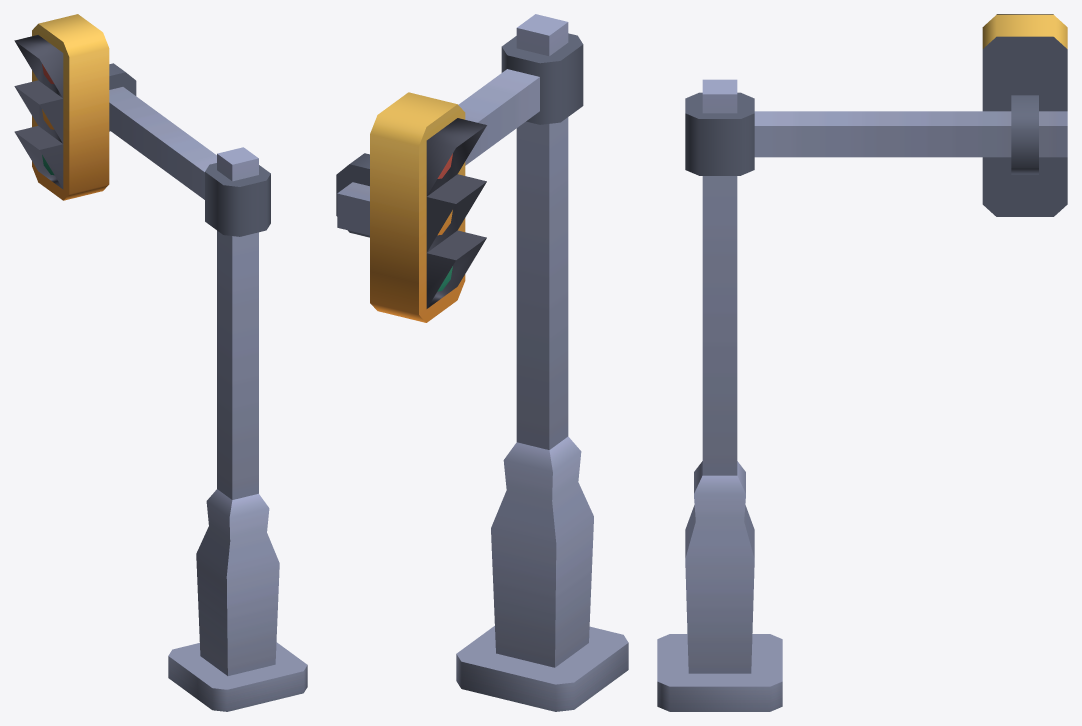
Rendered from traffic-light-hanging.glb.
3 renders of one model, left to right at view 1: azimuth 30°, elevation 25°; view 2: azimuth 150°, elevation 25°; view 3: azimuth 270°, elevation 25°, orthographic. The views are drawn at different scales.
Parts seen in each view (by area): view 1: traffic-light-hanging; view 2: traffic-light-hanging; view 3: traffic-light-hanging.
Part boxes in pixels (x1,y1,x2,y2): traffic-light-hanging: [14, 14, 307, 711]; traffic-light-hanging: [336, 14, 628, 711]; traffic-light-hanging: [657, 14, 1067, 711].
Size of the model in its own units: 0.1176 by 0.5091 by 0.295.
1 material, 1 textured.
